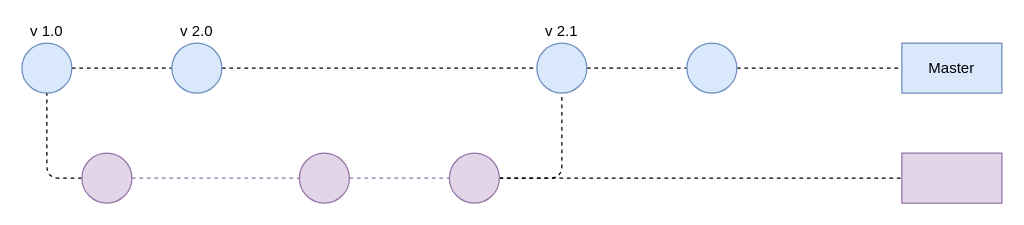
The diagram is 1024 pixels wide and 225 high, and some of its shapes have lost their labels. The shapes that lost their labels are listed below. From the top down, each one's centre as x and y in pixels, then its label:
pixel 711 67: v 3.0
pixel 951 177: Feature team
